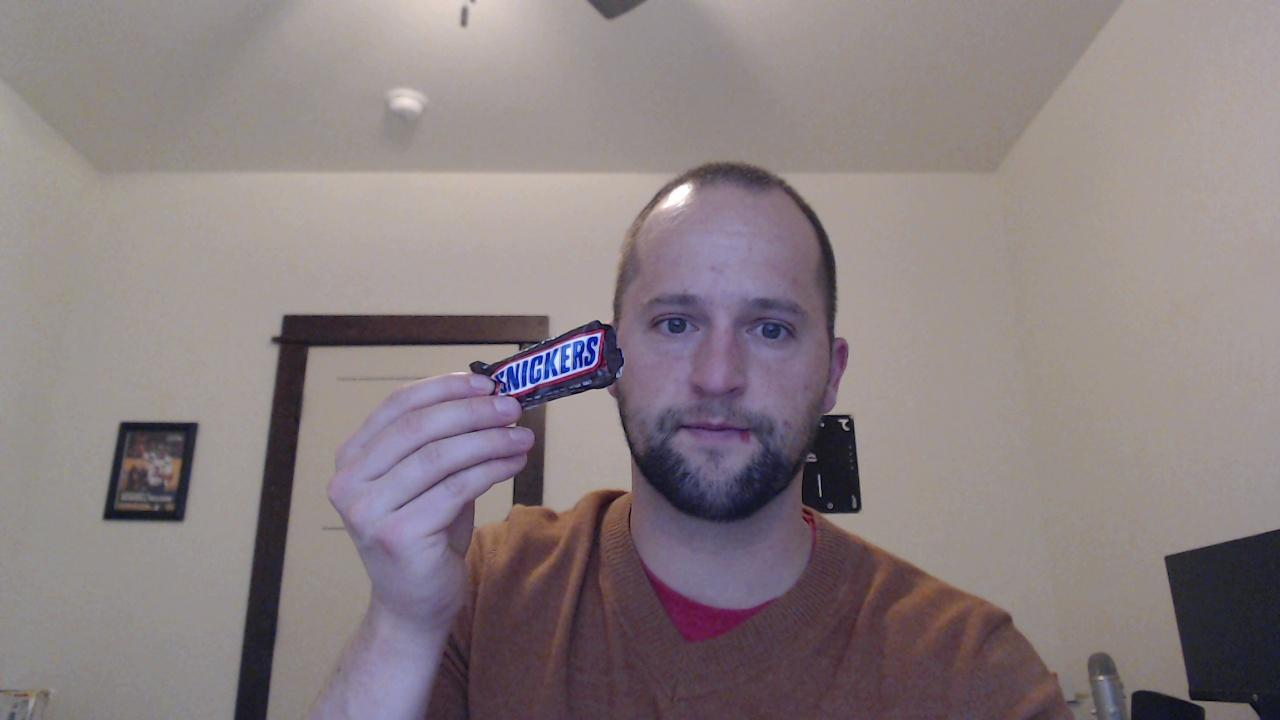Snickers: (472, 320, 627, 411)
